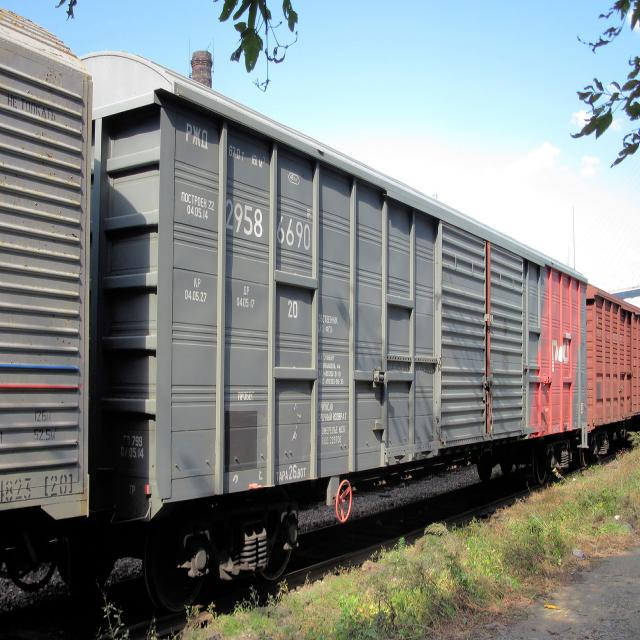boxcar: (82, 40, 586, 622), (583, 276, 640, 466)
